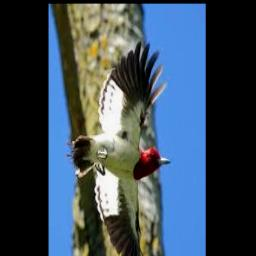Woodpecker: (68, 42, 171, 256)
